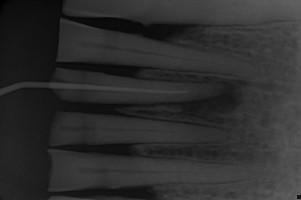Furcation Involvement: (179, 77, 244, 123)
